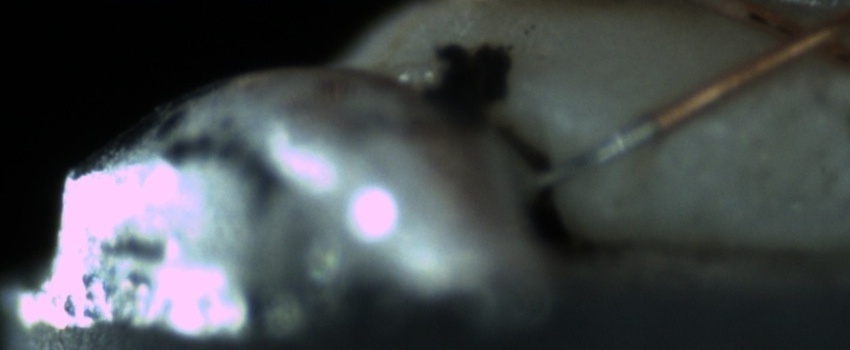CL: (755, 1, 846, 71)
TS: (531, 115, 657, 187)
